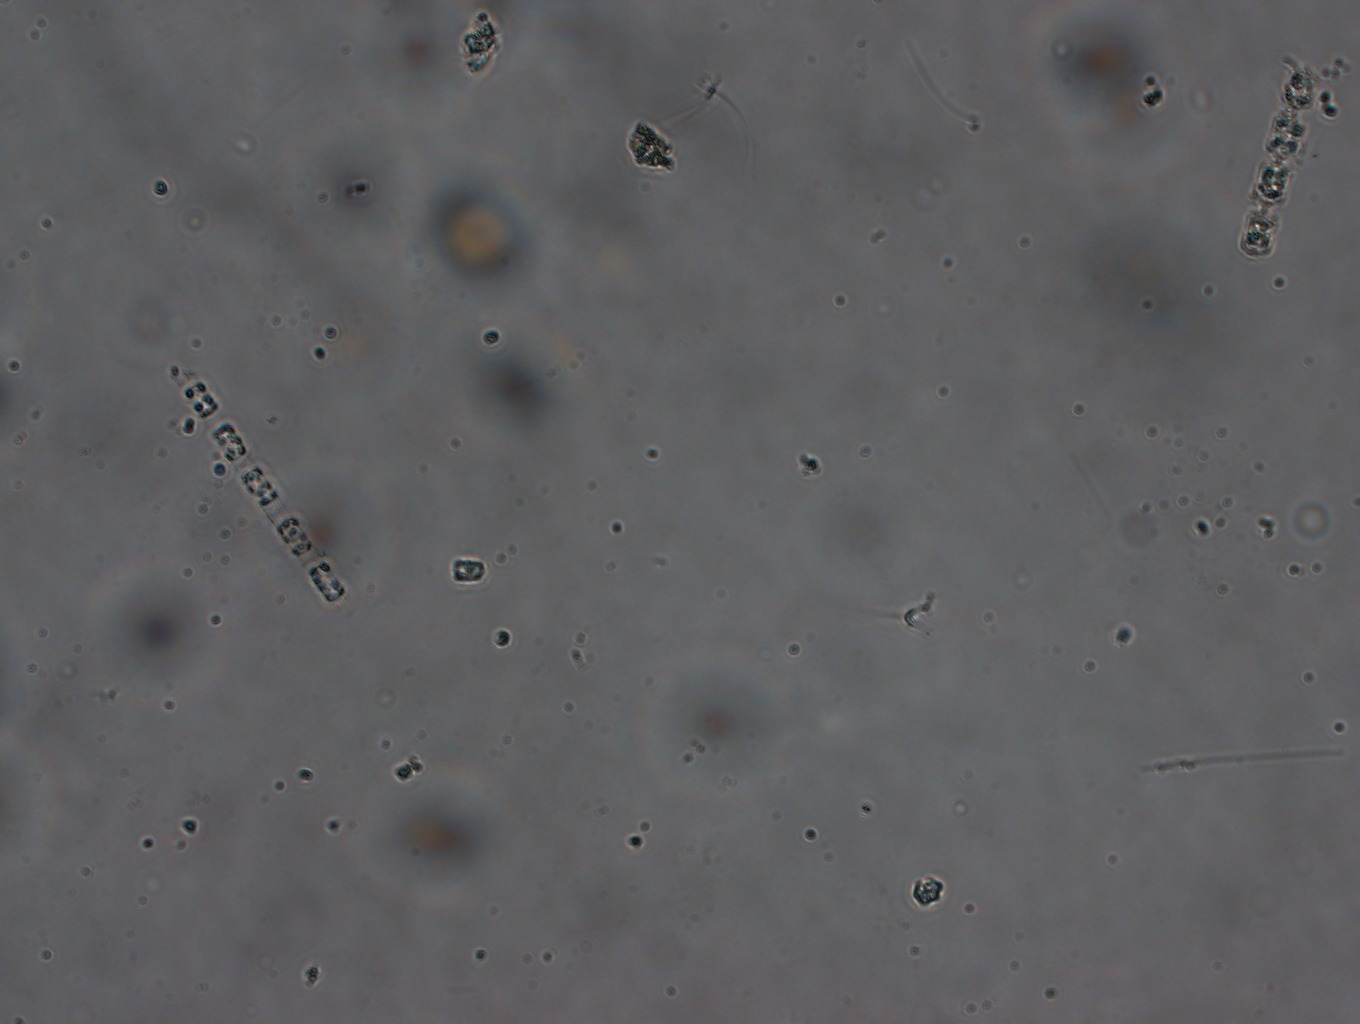chaetoceros: (1234, 52, 1322, 262)
skeletonema: (181, 376, 344, 605)
